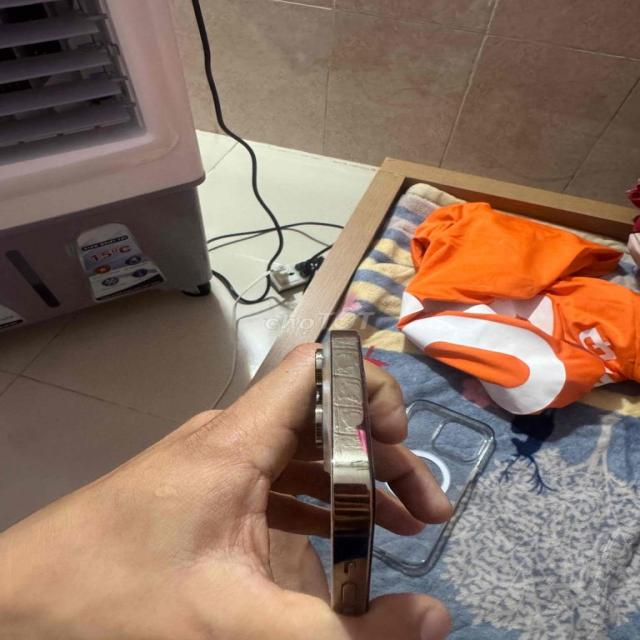gen_14: (300, 315, 414, 618)
